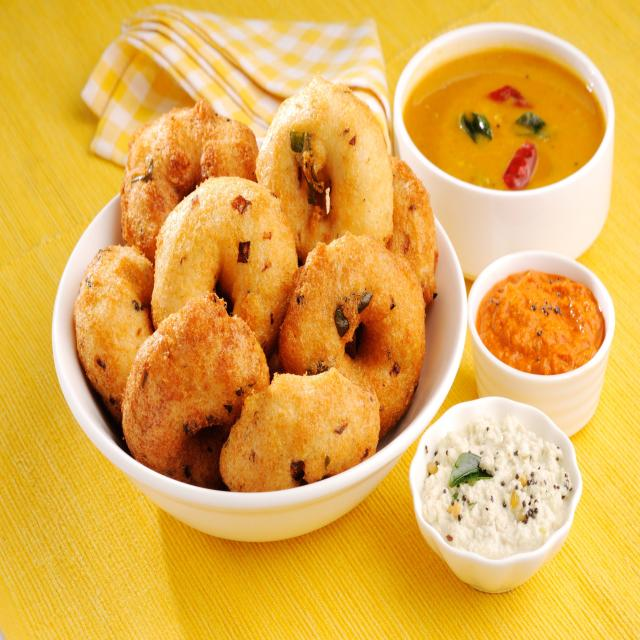RED CHUTNEY: (477, 271, 604, 379)
SAMBAR: (404, 49, 607, 191)
VADA: (72, 76, 439, 491)
WHITE CHUTNEY: (417, 413, 573, 560)
